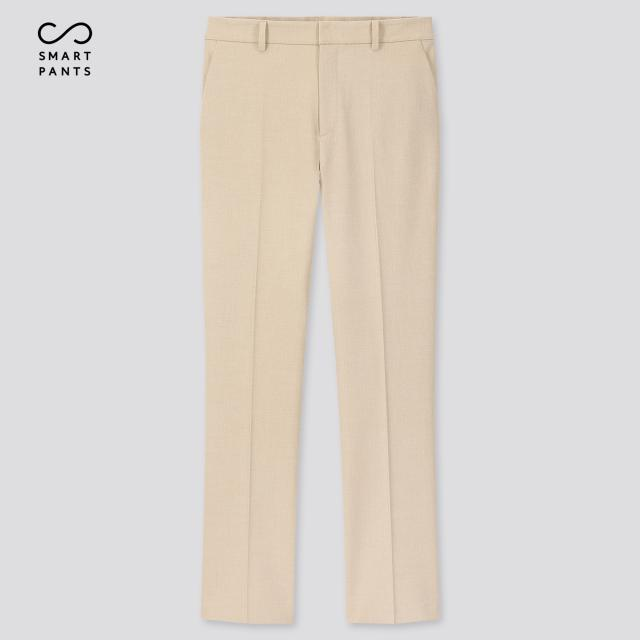long-pants: (199, 16, 445, 630)
